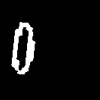chain: (12, 22, 34, 73)
